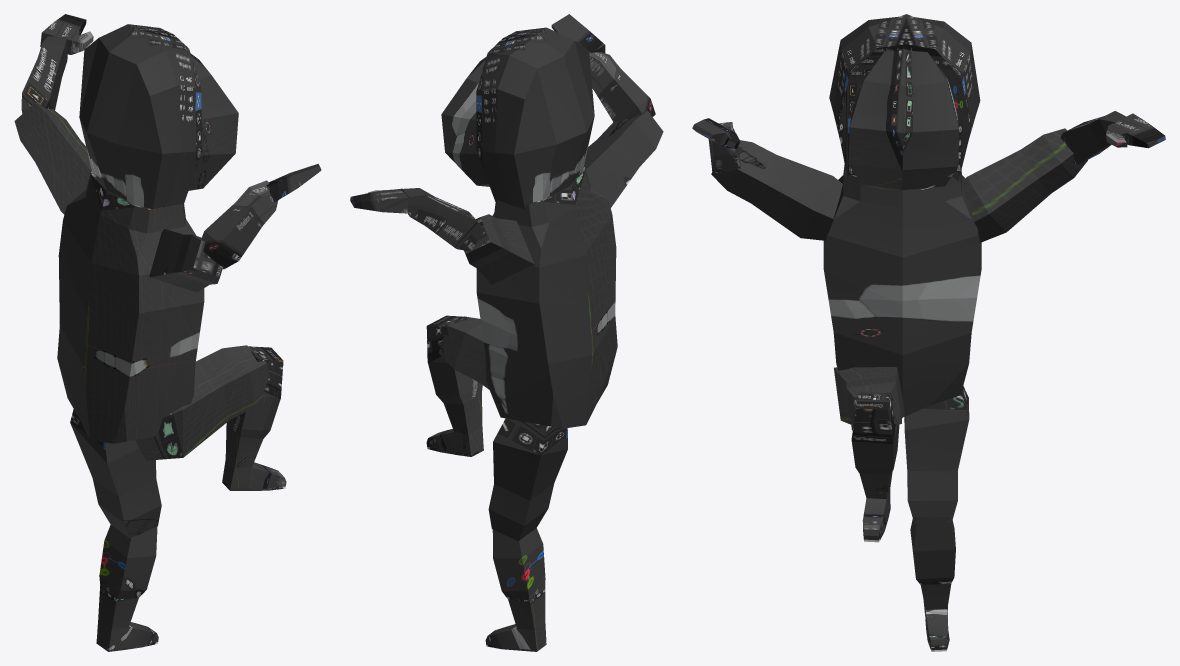
File: StarForger1.fbx
The picture shows the model from 3 angles, left to right: view 1: azimuth 30°, elevation 25°; view 2: azimuth 150°, elevation 25°; view 3: azimuth 270°, elevation 25°; orthographic projection. The views are drawn at different scales.
Parts seen in each view (by area): view 1: Torso, HeadHood, Head; view 2: Torso, HeadHood, Head; view 3: Torso, Head, HeadHood.
Boxes of the visible parts, x1,y1,x2,y2 form: Torso: (14, 14, 321, 651); HeadHood: (79, 24, 202, 209); Head: (188, 53, 238, 190); Torso: (350, 14, 663, 651); HeadHood: (476, 27, 594, 209); Head: (441, 56, 489, 186); Torso: (692, 111, 1165, 651); Head: (848, 49, 959, 189); HeadHood: (829, 14, 980, 181).
Size of the model in its own units: 677 by 981 by 301.
